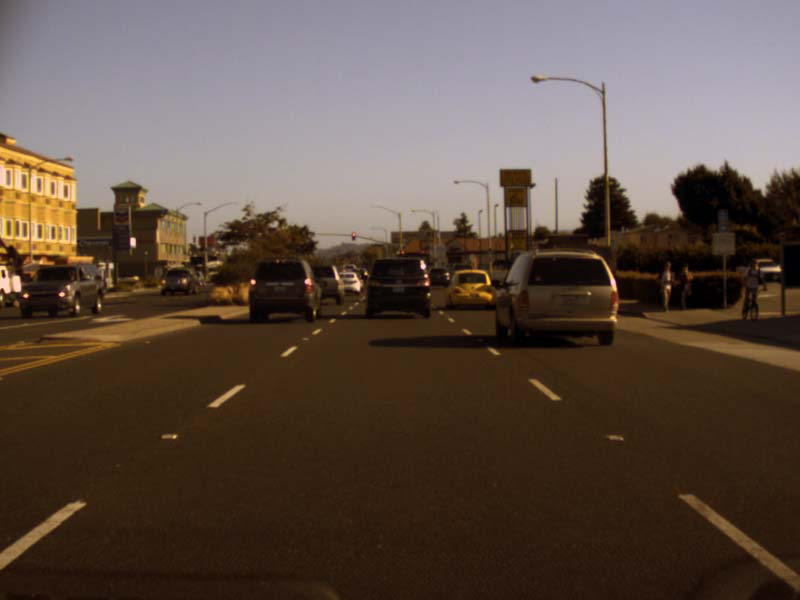Red: (420, 249, 425, 257), (351, 232, 355, 240), (399, 251, 404, 257)
